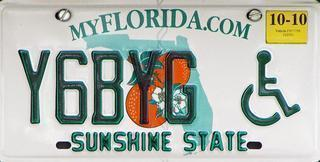placa de veiculo: (2, 0, 317, 161)
